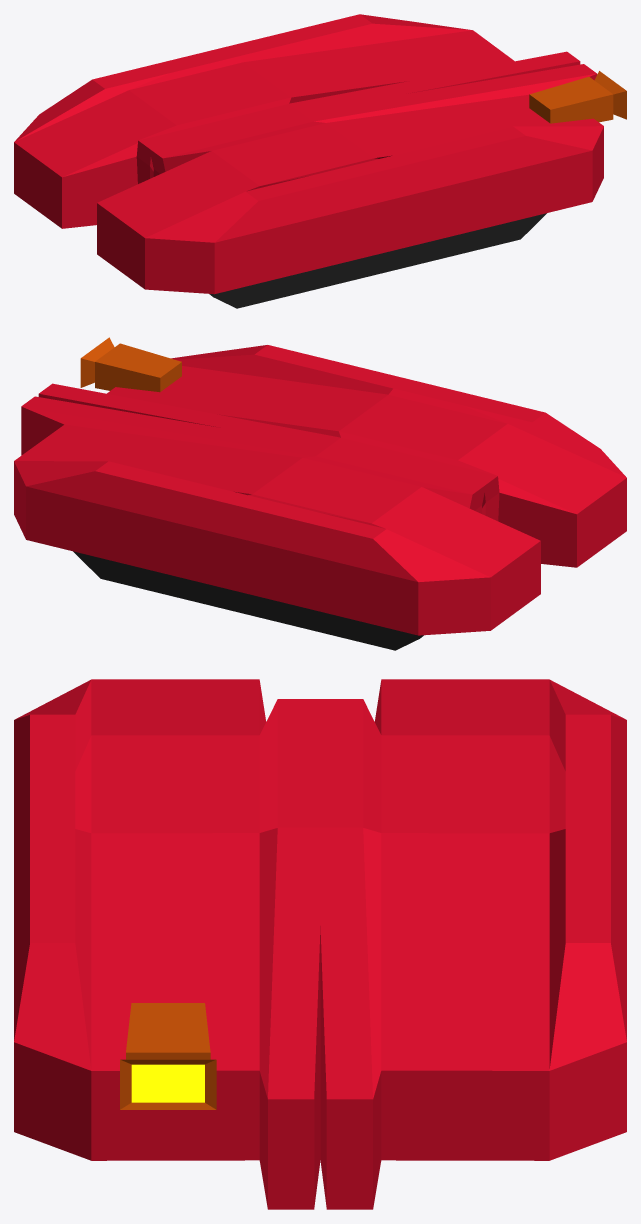
The model's file is enemybodyfbx.fbx.
The picture shows the model from 3 angles, top to bottom: view 1: azimuth 30°, elevation 25°; view 2: azimuth 150°, elevation 25°; view 3: azimuth 270°, elevation 25°; orthographic projection. The views are drawn at different scales.
Parts seen in each view (by area): view 1: Cube.001, Cube; view 2: Cube.001, Cube; view 3: Cube.001, Cube.
Boxes of the visible parts, <box> form: Cube.001: <box>14,14,603,308</box>; Cube: <box>529,71,626,123</box>; Cube.001: <box>14,345,626,650</box>; Cube: <box>80,337,181,392</box>; Cube.001: <box>14,679,626,1209</box>; Cube: <box>120,1003,216,1109</box>.
Bounding box in the file's own units: 548 × 104 × 331.
